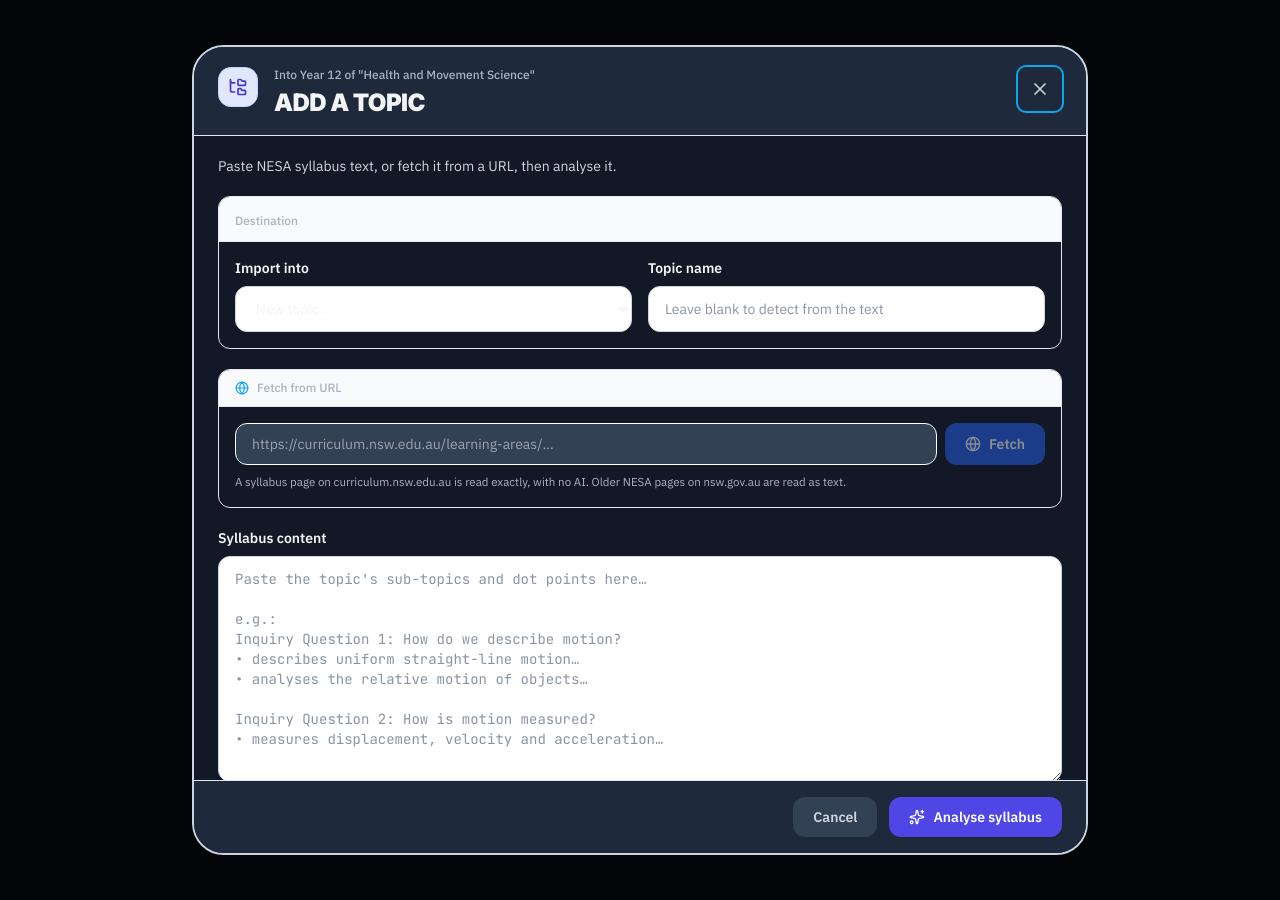
Test: TopicSyllabusImportModal reading a NESA page › shows no year warning when the page is the year the modal is in
Type "https://curriculum.nsw.edu.au/learning-areas/pdhpe-7-12-2023/health-issues" into the field with placeholder "https://curriculum.nsw.edu.au/learning-areas/…" at [586, 444], box [235, 423, 937, 465]
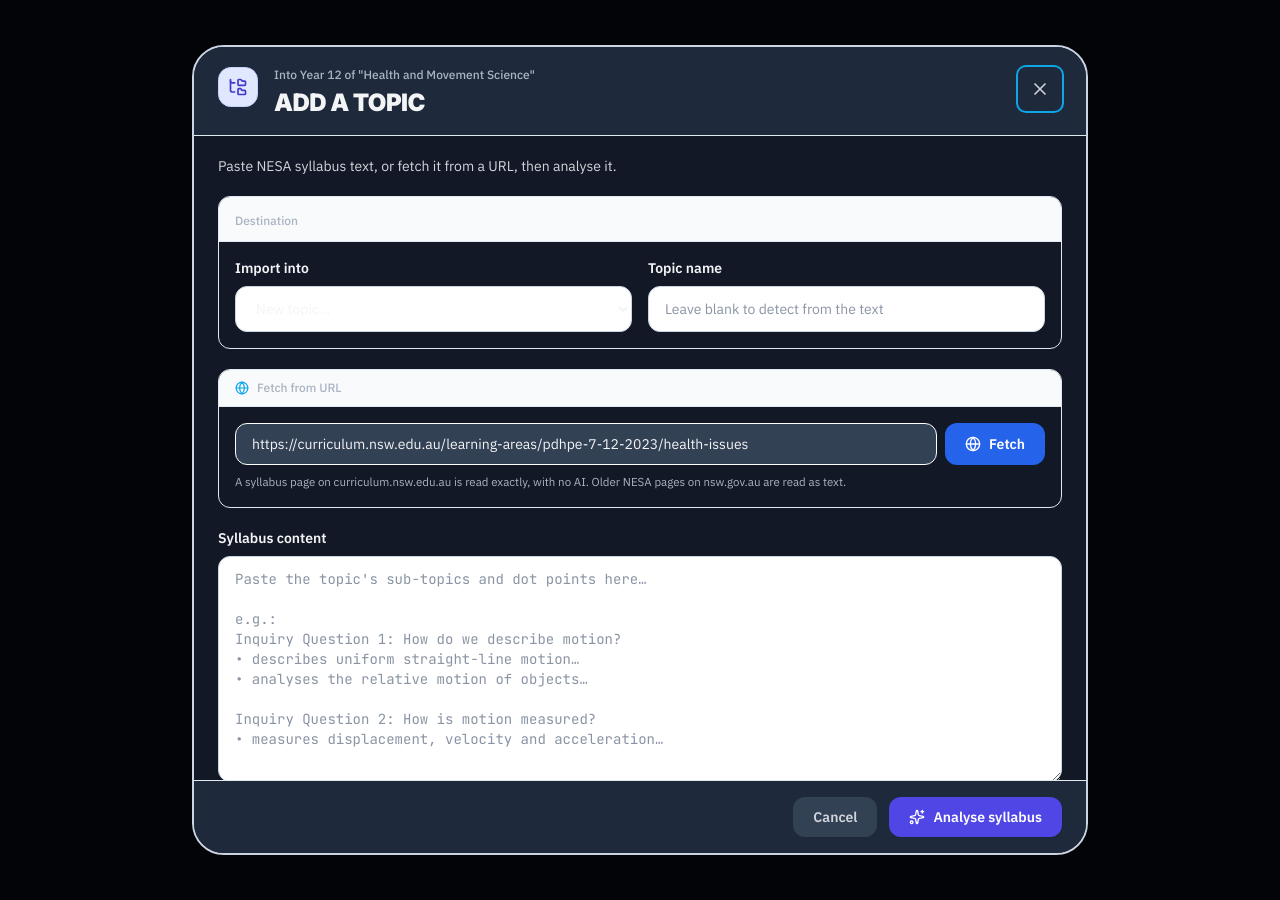
Click the button "Fetch" at [995, 444], box [945, 423, 1045, 465]
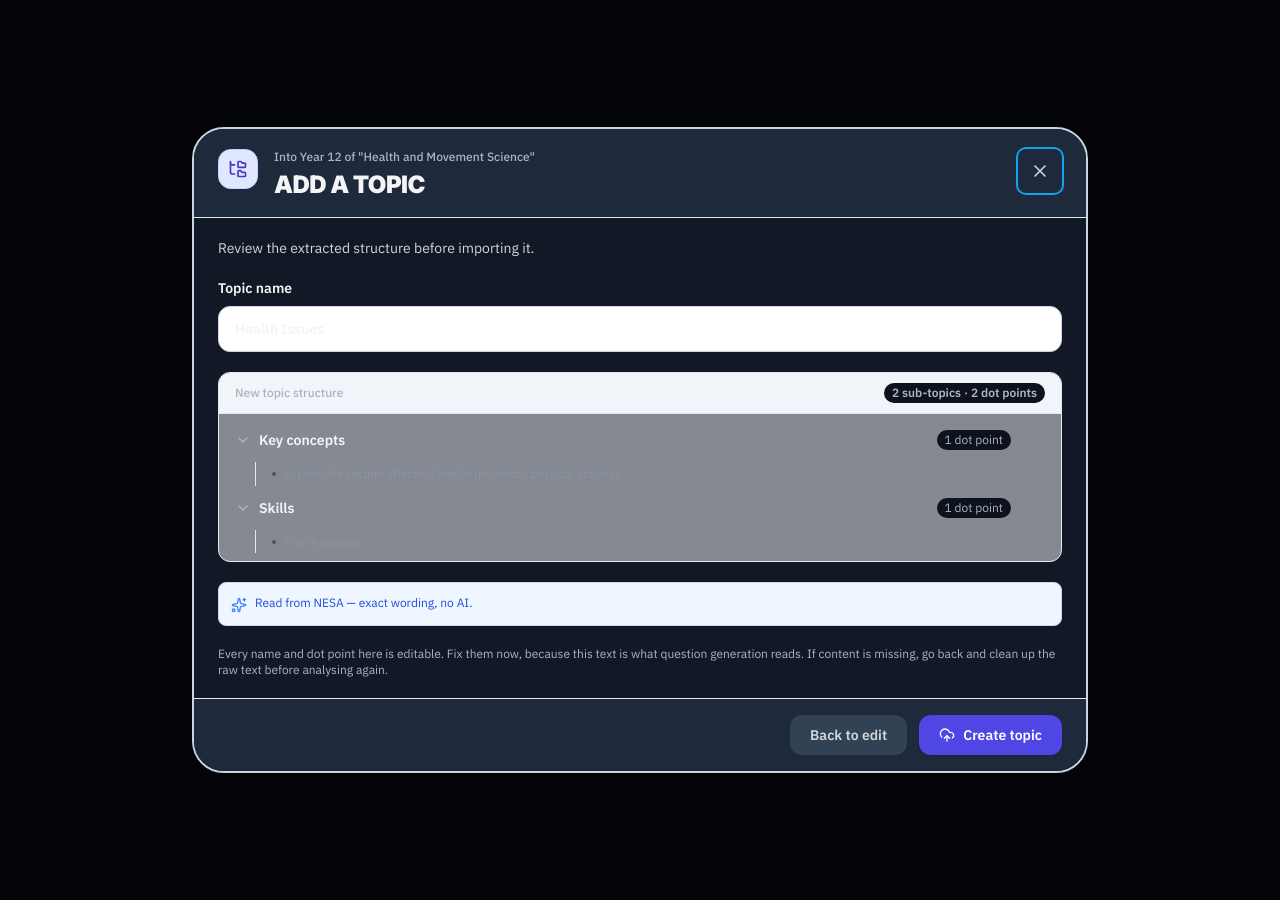
Expected: the text "Read from NESA — exact wording, no AI." is shown, [255, 595, 472, 611]
